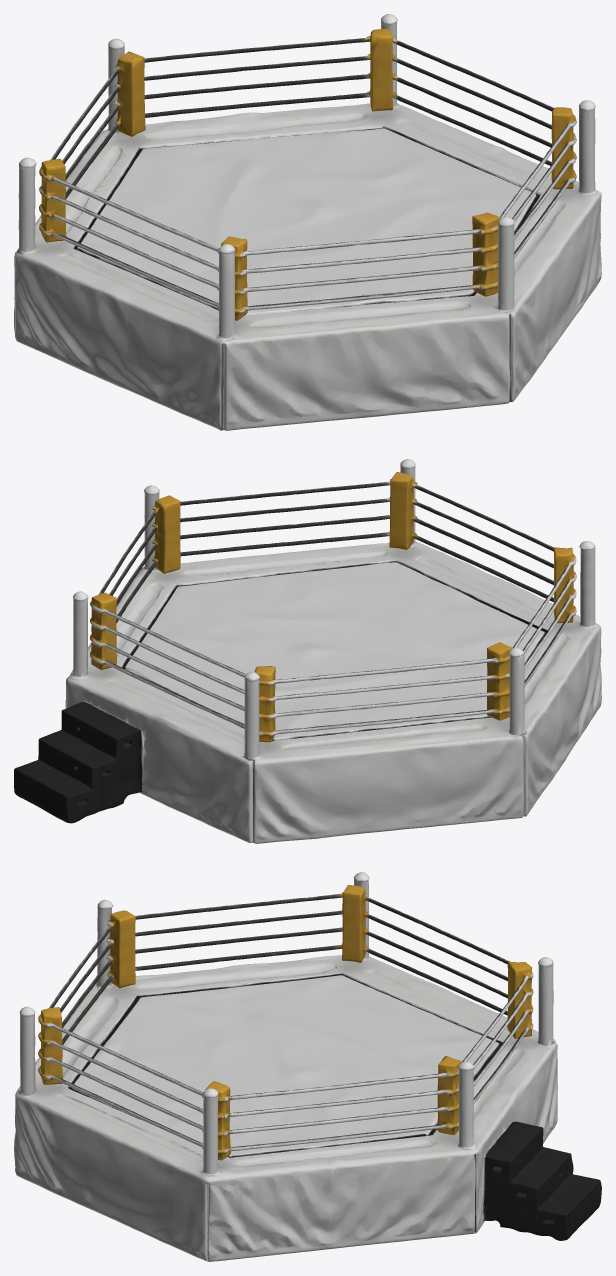
The model's file is 516ce595-f9c4-4807-8199-6f3c6a5ccfa3 (1) (1).glb.
3 renders of one model, top to bottom at view 1: azimuth 30°, elevation 25°; view 2: azimuth 150°, elevation 25°; view 3: azimuth 270°, elevation 25°, orthographic. The views are drawn at different scales.
Visible parts, largest first — view 1: tripo_node_66caa3c1-4e1f-444c-96f9-955d7c4a5068; view 2: tripo_node_66caa3c1-4e1f-444c-96f9-955d7c4a5068; view 3: tripo_node_66caa3c1-4e1f-444c-96f9-955d7c4a5068.
Boxes of the visible parts, x1,y1,x2,y2 form: tripo_node_66caa3c1-4e1f-444c-96f9-955d7c4a5068: (14,14,601,430); tripo_node_66caa3c1-4e1f-444c-96f9-955d7c4a5068: (14,459,601,843); tripo_node_66caa3c1-4e1f-444c-96f9-955d7c4a5068: (14,872,601,1261).
Bounding box in the file's own units: 0.9172 × 0.325 × 1.
1 material, 1 textured.
